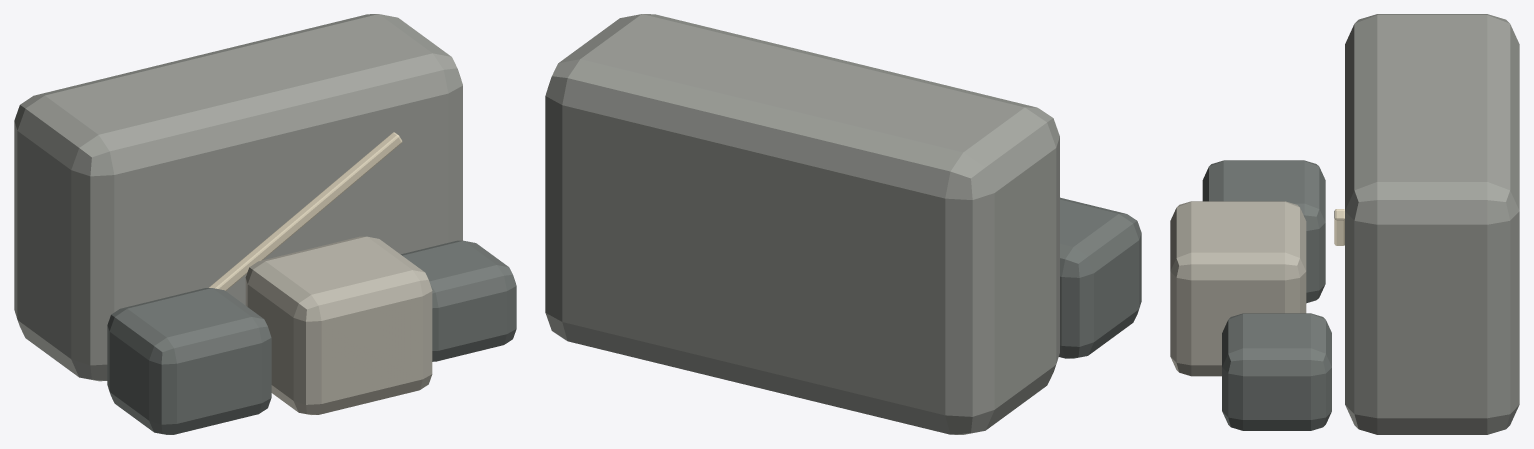
The model's file is economy_source_stone_quarry_v01.glb.
3 views of the same model, side by side, from view 1: azimuth 30°, elevation 25°; view 2: azimuth 150°, elevation 25°; view 3: azimuth 270°, elevation 25° (orthographic). The views are drawn at different scales.
Parts seen in each view (by area): view 1: GEO_StoneQuarryFace, GEO_QuarriedBlock_1, GEO_QuarriedBlock_0, GEO_QuarriedBlock_2, GEO_QuarryCut; view 2: GEO_StoneQuarryFace, GEO_QuarriedBlock_0; view 3: GEO_StoneQuarryFace, GEO_QuarriedBlock_1, GEO_QuarriedBlock_2, GEO_QuarriedBlock_0, GEO_QuarryCut.
Part boxes in pixels (box(x1,y1,x2,y2)): GEO_StoneQuarryFace: box(14, 14, 462, 381); GEO_QuarriedBlock_1: box(245, 236, 432, 414); GEO_QuarriedBlock_0: box(107, 288, 271, 434); GEO_QuarriedBlock_2: box(401, 240, 516, 361); GEO_QuarryCut: box(209, 132, 402, 290); GEO_StoneQuarryFace: box(545, 14, 1059, 434); GEO_QuarriedBlock_0: box(1059, 197, 1141, 358); GEO_StoneQuarryFace: box(1345, 14, 1519, 434); GEO_QuarriedBlock_1: box(1170, 201, 1306, 376); GEO_QuarriedBlock_2: box(1222, 313, 1331, 430); GEO_QuarriedBlock_0: box(1202, 160, 1325, 303); GEO_QuarryCut: box(1334, 209, 1344, 245).
Bounding box in the file's own units: 1.42 × 0.86 × 1.08.
